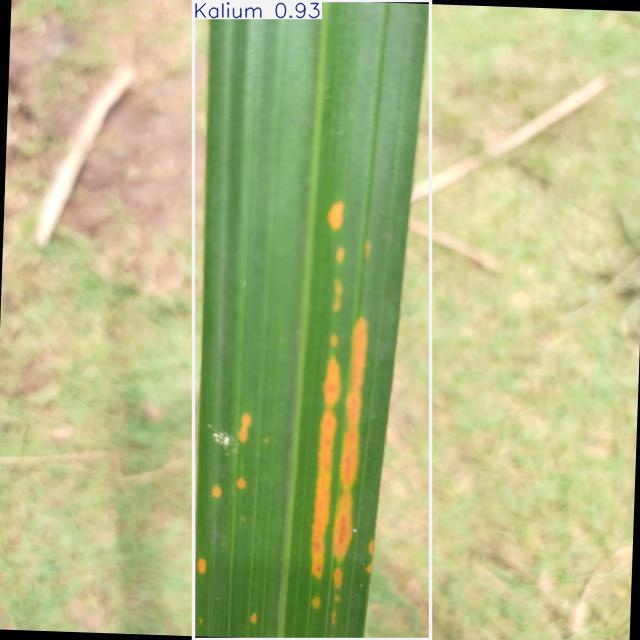Kalium: (193, 1, 431, 639)
